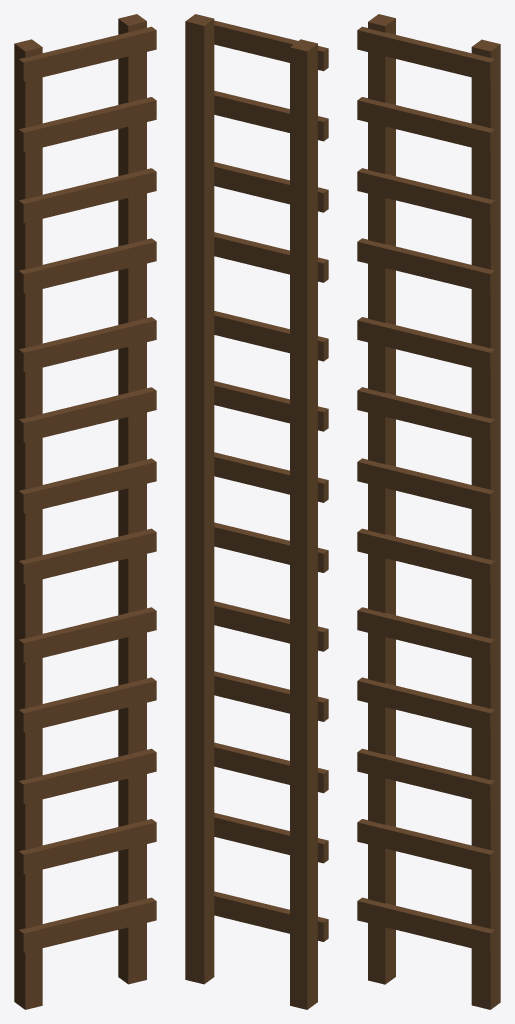
Rendered from SM_ladder.fbx.
3 renders of one model, left to right at view 1: azimuth 30°, elevation 25°; view 2: azimuth 150°, elevation 25°; view 3: azimuth 330°, elevation 25°, orthographic.
Parts seen in each view (by area): view 1: Box322; view 2: Box322; view 3: Box322.
Part boxes in pixels (x1,y1,x2,y2): Box322: (14, 14, 156, 1009); Box322: (185, 14, 328, 1009); Box322: (357, 14, 500, 1009).
Bounding box in the file's own units: 24.74 × 170 × 4.89.
